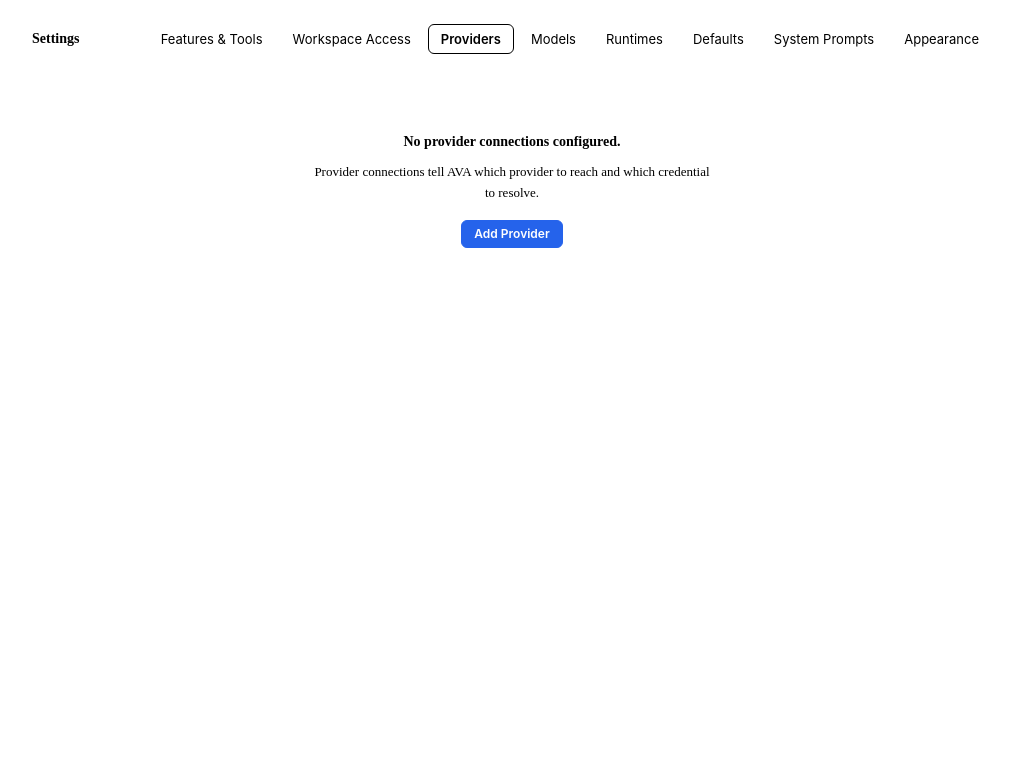
Test: Add Runtime › falls back to a text field when discovery reports nothing
Expected: the element with test id "settings-workspace" is shown, [8,8,1016,312]
Click the tab "Runtimes". click: (634, 39)
box: [593,24,676,54]
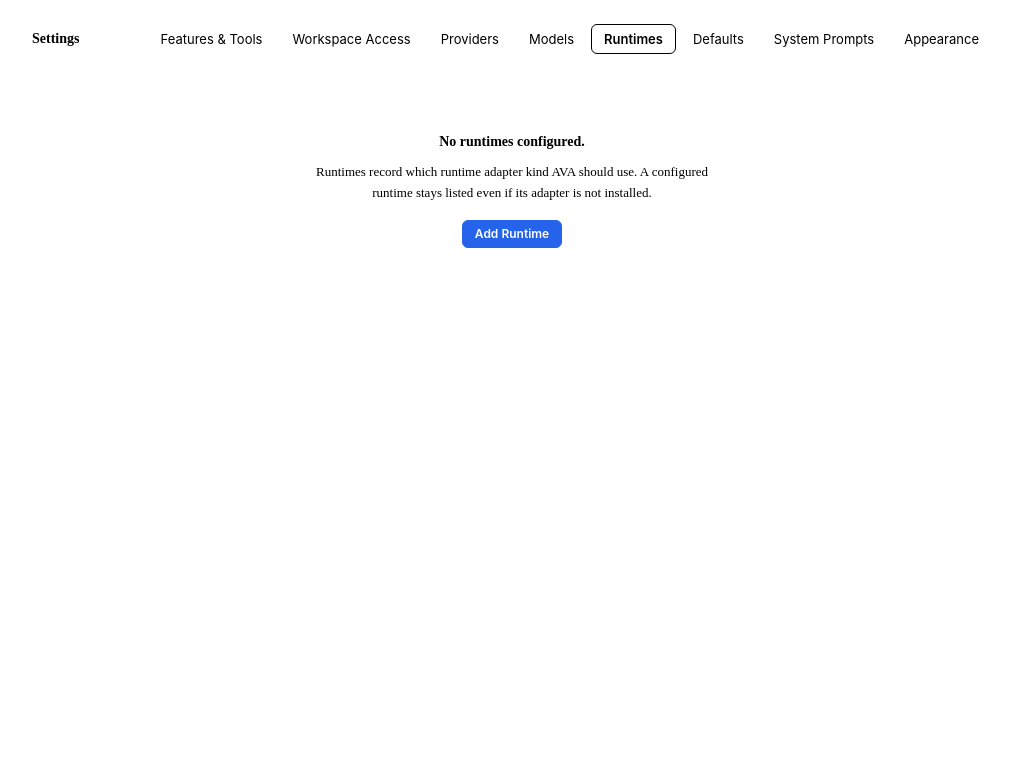
Click the button "Add Runtime". click: (512, 234)
box: [462,220,562,248]
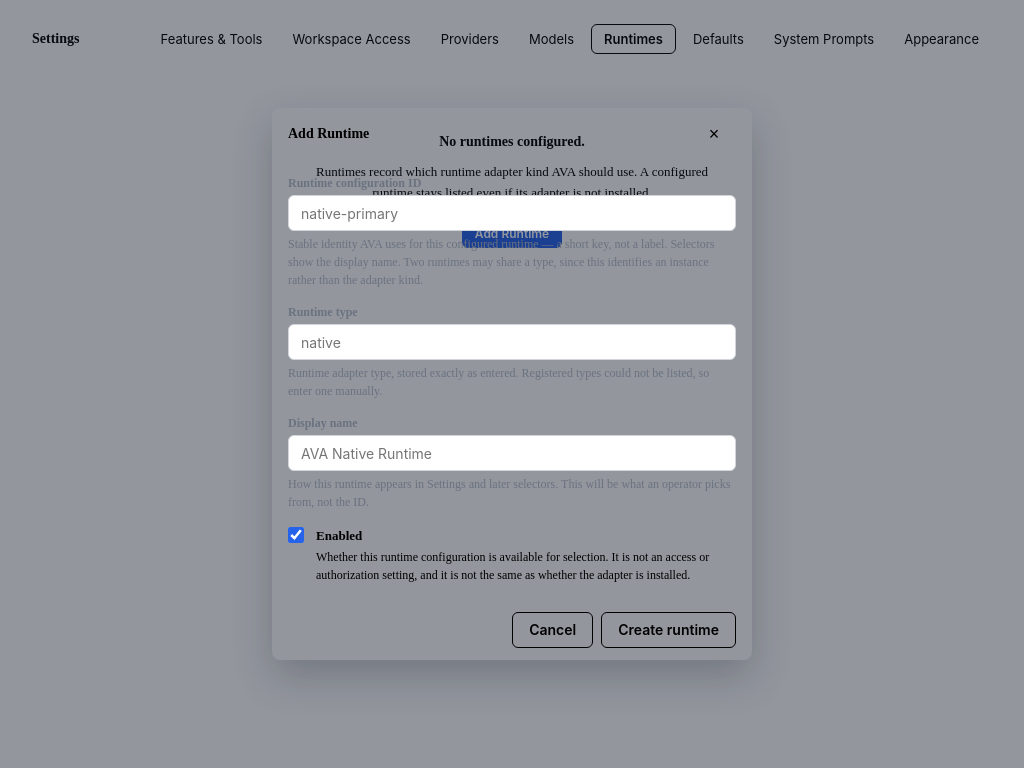
Expected: the dialog is shown, [272,108,752,660]
